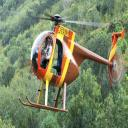helicopter: (14, 16, 126, 119)
